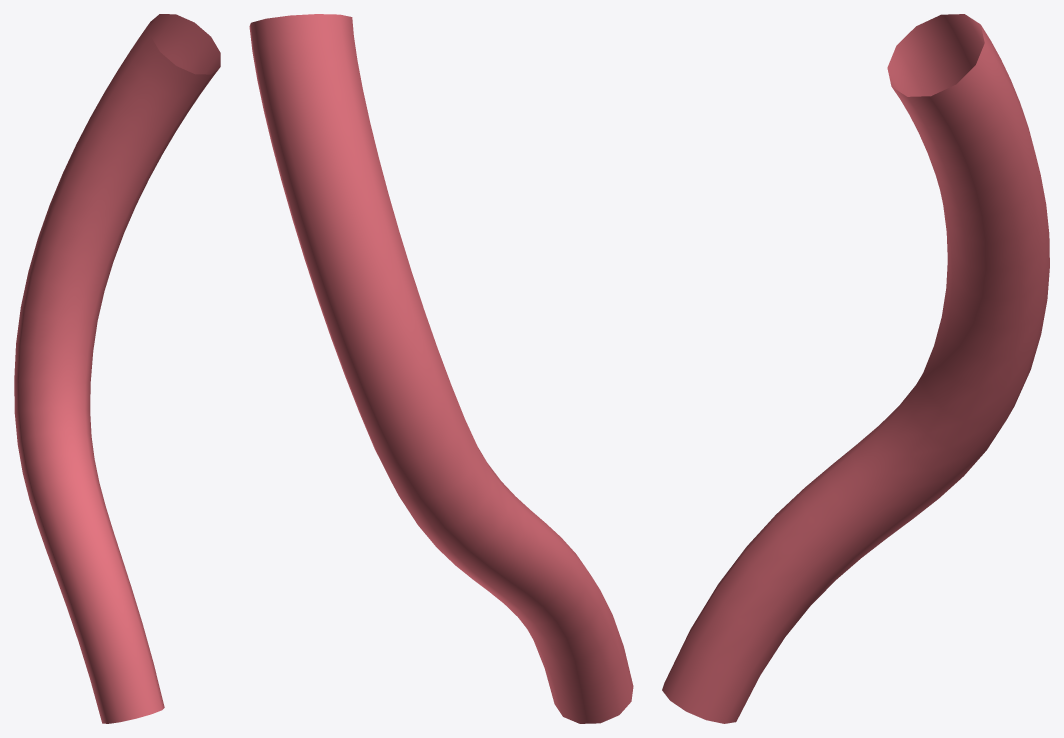
3 views of the same model, side by side, from view 1: azimuth 30°, elevation 25°; view 2: azimuth 150°, elevation 25°; view 3: azimuth 270°, elevation 25° (orthographic). The views are drawn at different scales.
Visible parts, largest first — view 1: ZA_8a4c69dbbb538ac8; view 2: ZA_8a4c69dbbb538ac8; view 3: ZA_8a4c69dbbb538ac8.
Boxes of the visible parts, x1=… form: ZA_8a4c69dbbb538ac8: x1=14, y1=14, x2=220, y2=723; ZA_8a4c69dbbb538ac8: x1=249, y1=14, x2=633, y2=723; ZA_8a4c69dbbb538ac8: x1=662, y1=14, x2=1049, y2=723.
Bounding box in the file's own units: 0.0374 × 0.1026 × 0.0464.
